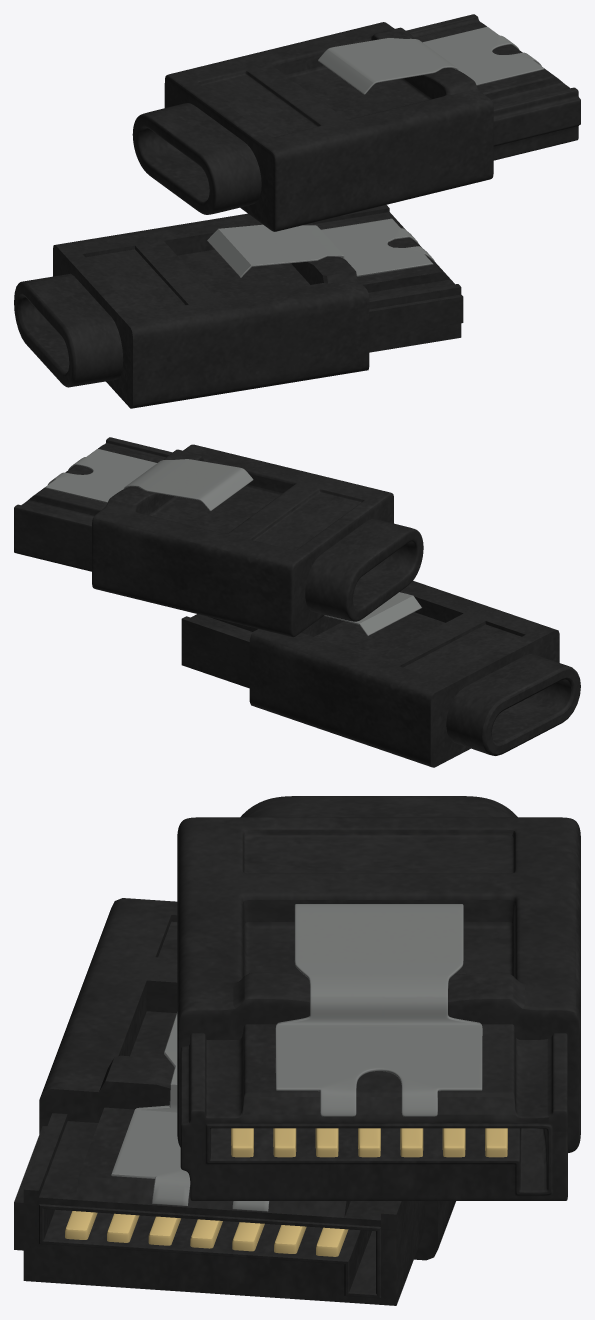
The model's file is sata_cable.glb.
3 renders of one model, top to bottom at view 1: azimuth 30°, elevation 25°; view 2: azimuth 150°, elevation 25°; view 3: azimuth 270°, elevation 25°, orthographic. The views are drawn at different scales.
Parts seen in each view (by area): view 1: Body_2, Body, Sweep_2, Sweep, Connector, Metal, Metal_2, Connector_2; view 2: Body_2, Body, Sweep, Sweep_2, Metal_2, Connector_2, Connector, Metal; view 3: Body_2, Connector_2, Connector, Metal_2, Body, Metal, Sweep_2, Pins, Pins_2.
Part boxes in pixels (<box>): Body_2: <box>164,22,493,231</box>; Body: <box>53,213,369,408</box>; Sweep_2: <box>132,103,261,214</box>; Sweep: <box>14,273,123,387</box>; Connector: <box>312,205,463,352</box>; Metal: <box>207,218,434,277</box>; Metal_2: <box>318,26,544,94</box>; Connector_2: <box>406,14,580,160</box>; Body_2: <box>92,444,393,637</box>; Body: <box>249,581,559,767</box>; Sweep: <box>446,654,580,755</box>; Sweep_2: <box>305,519,423,621</box>; Metal_2: <box>45,449,253,511</box>; Connector_2: <box>14,437,172,571</box>; Connector: <box>181,614,257,688</box>; Metal: <box>324,592,421,635</box>; Body_2: <box>177,817,580,1152</box>; Connector_2: <box>180,1024,567,1200</box>; Connector: <box>14,1107,425,1305</box>; Metal_2: <box>275,904,482,1116</box>; Body: <box>39,898,455,1260</box>; Metal: <box>111,1012,269,1211</box>; Sweep_2: <box>240,796,517,817</box>; Pins: <box>65,1211,348,1256</box>; Pins_2: <box>231,1128,507,1157</box>.
Bounding box in the file's own units: 0.0349 × 0.0144 × 0.0186.
1 material, 1 textured.
